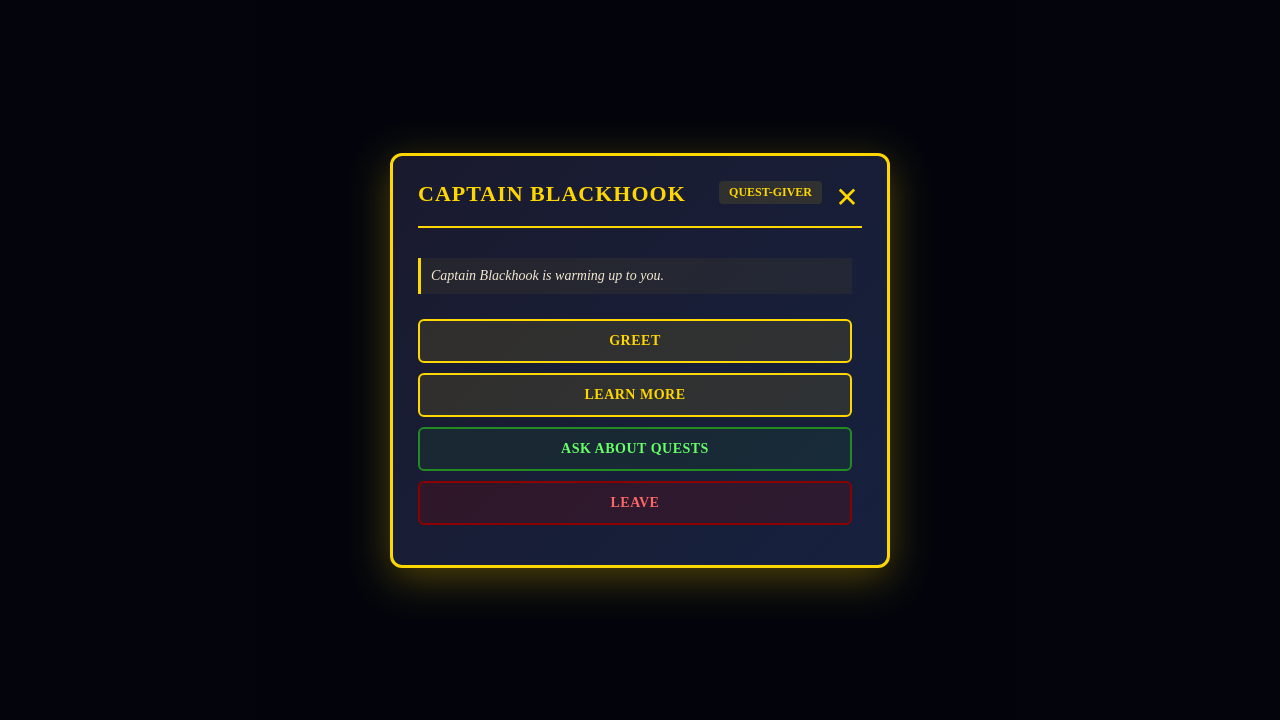
Test case: NPC Dialogue Trees › Greet option shows NPC greeting dialogue
The image size is (1280, 720).
Click the button with class "dialogue-btn" showing "Greet" at x=635, y=340, box [418,318,852,362]
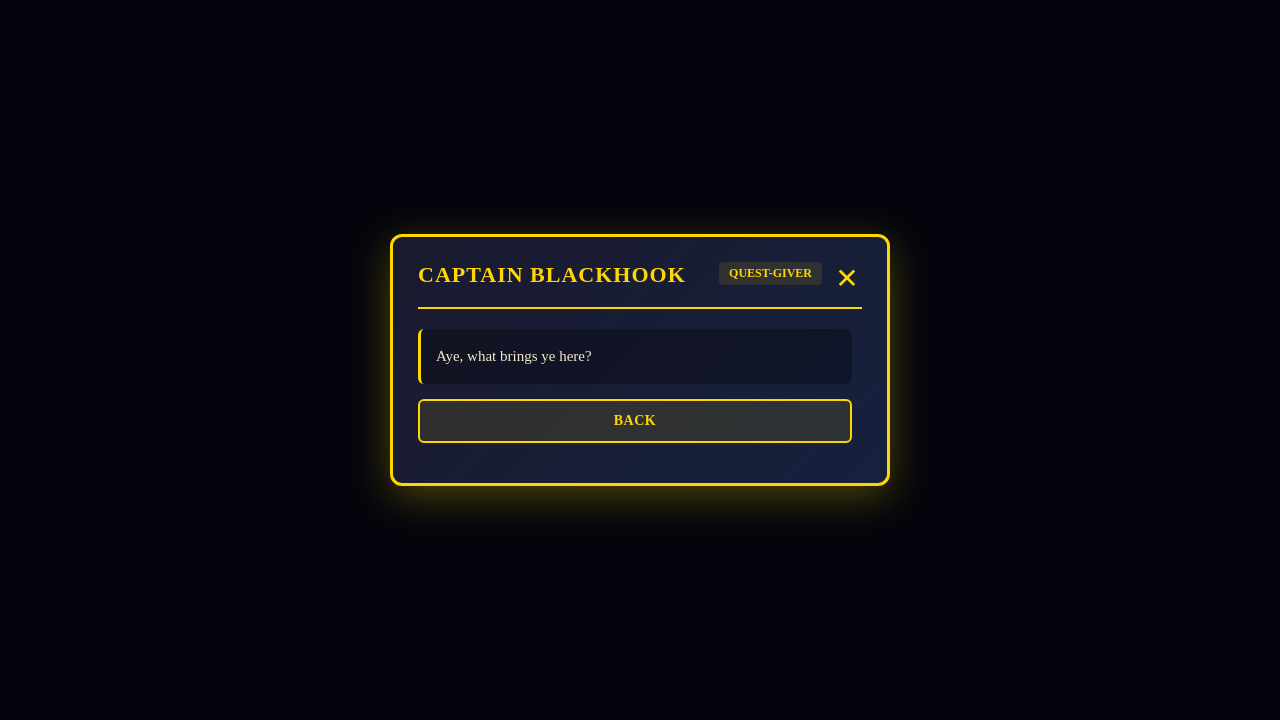
Now the text "Aye, what brings ye here?" is shown, box [418,329,852,384]
